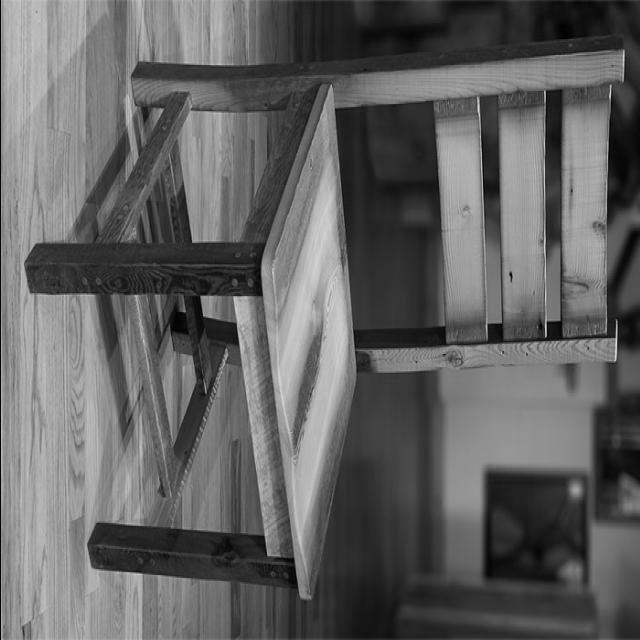chair: (23, 39, 625, 595)
